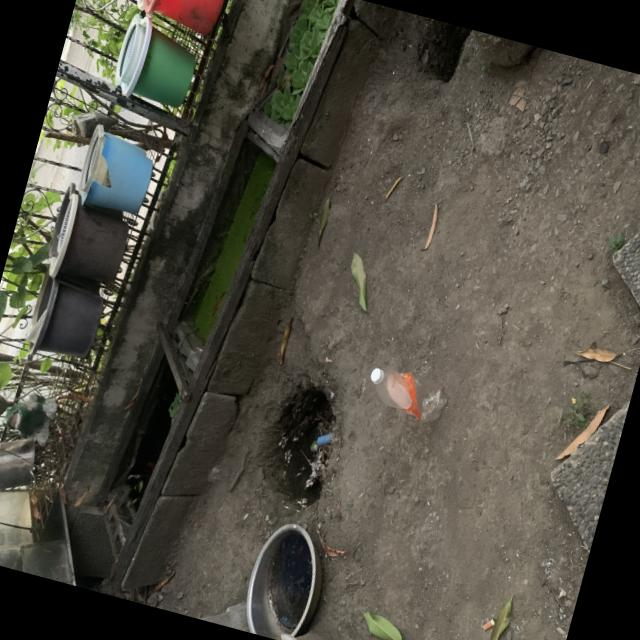Bottle: (369, 367, 445, 422)
